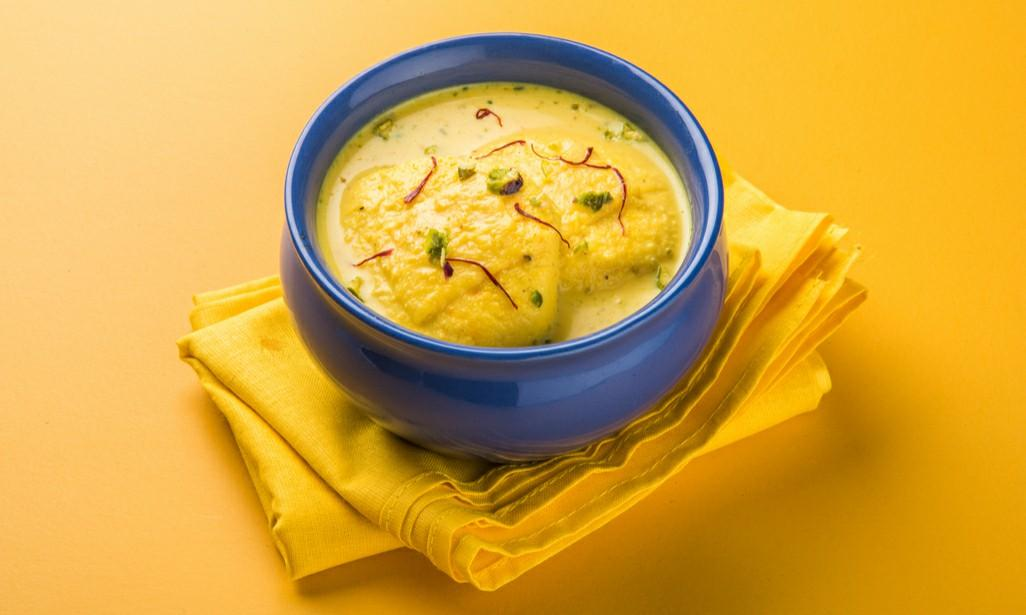RasMalai: (313, 75, 693, 353)
